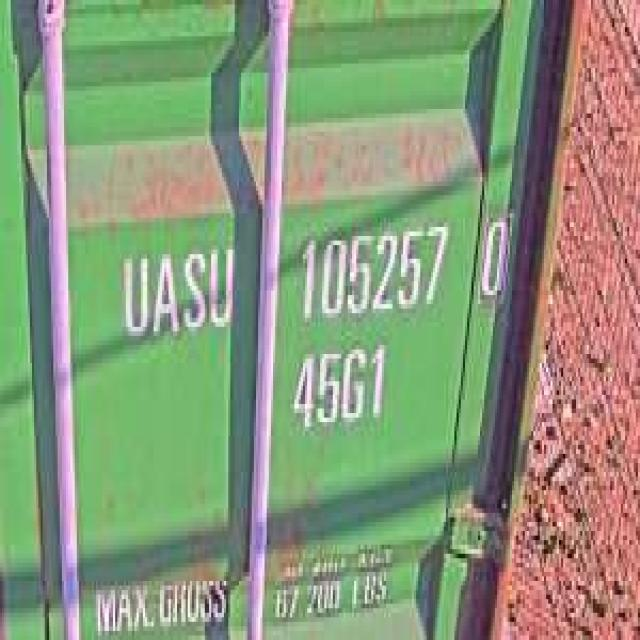dv: (476, 203, 514, 313)
owner: (117, 231, 237, 345)
serial: (288, 213, 452, 327)
size: (286, 340, 388, 440)
